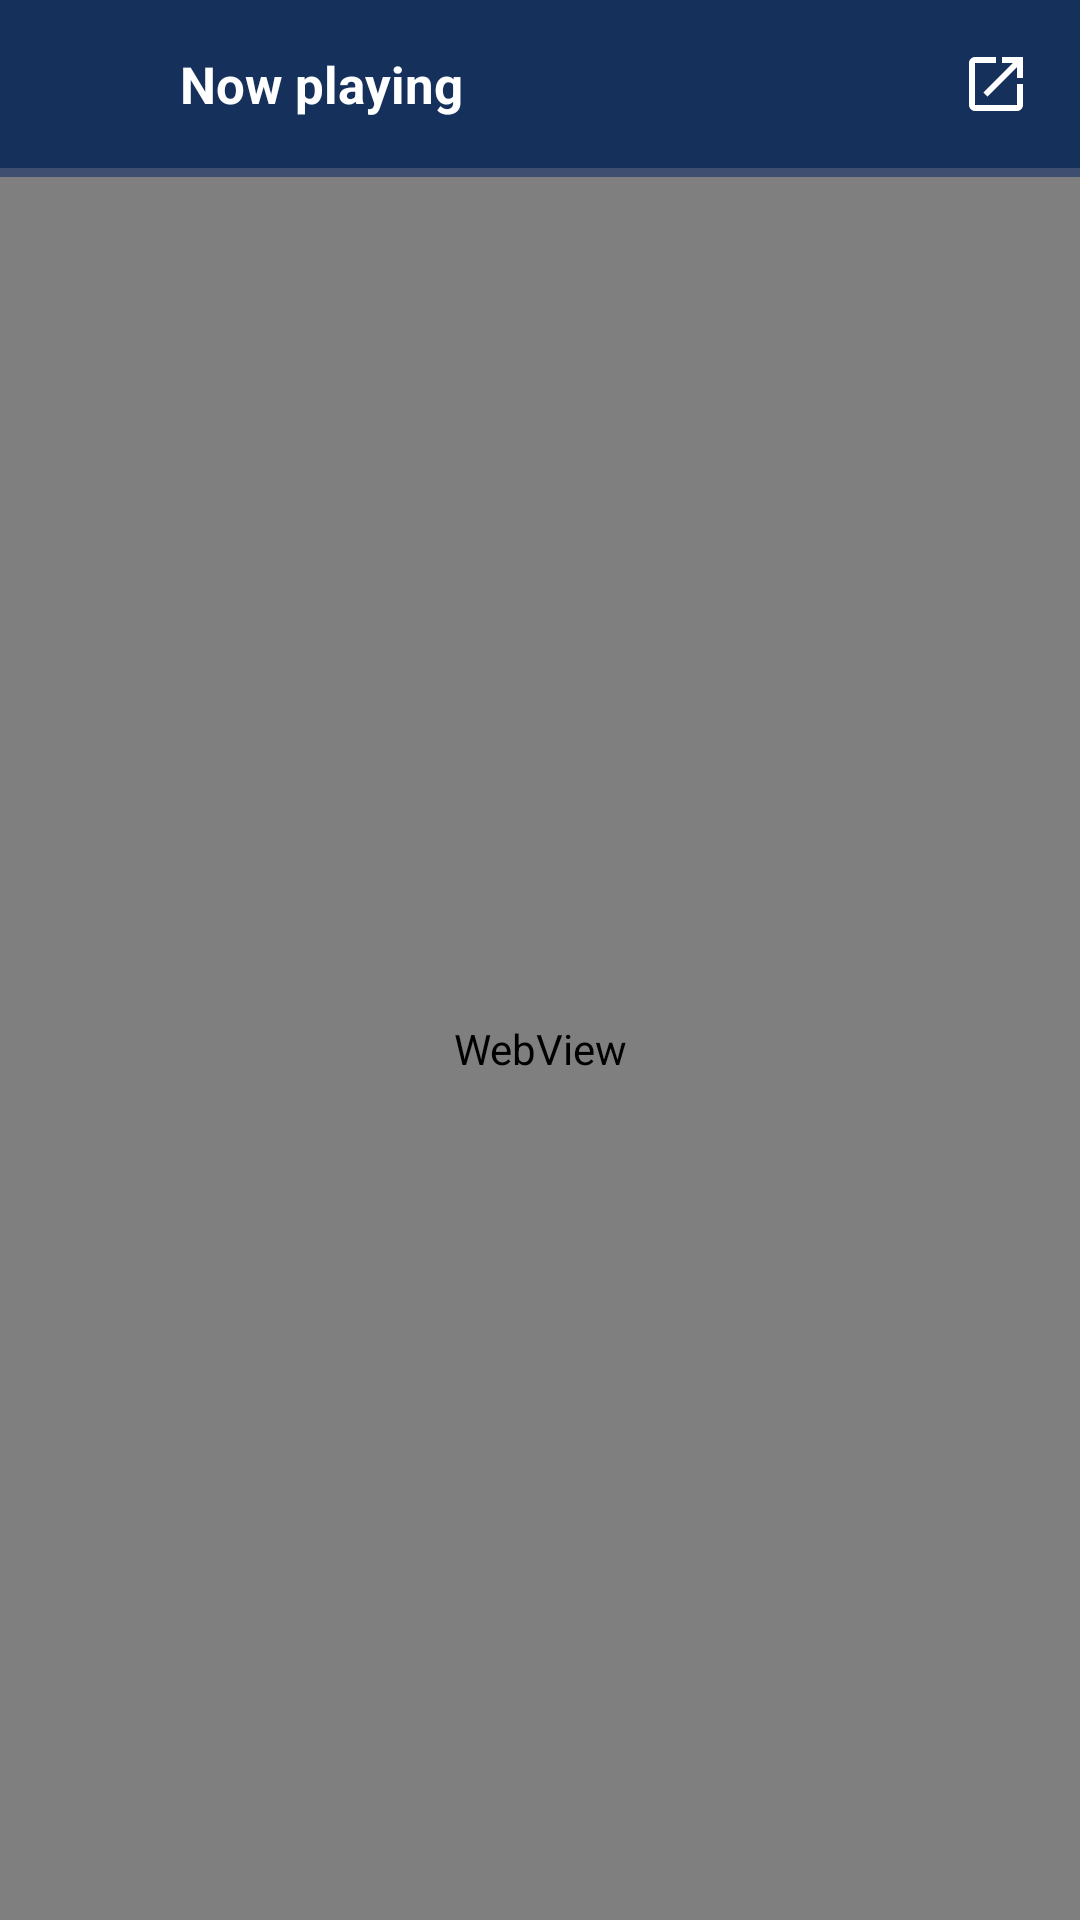

Icon click points for this 1080x1920 phone screenshot, format [x,y]:
Open in Chrome: [996,84]
